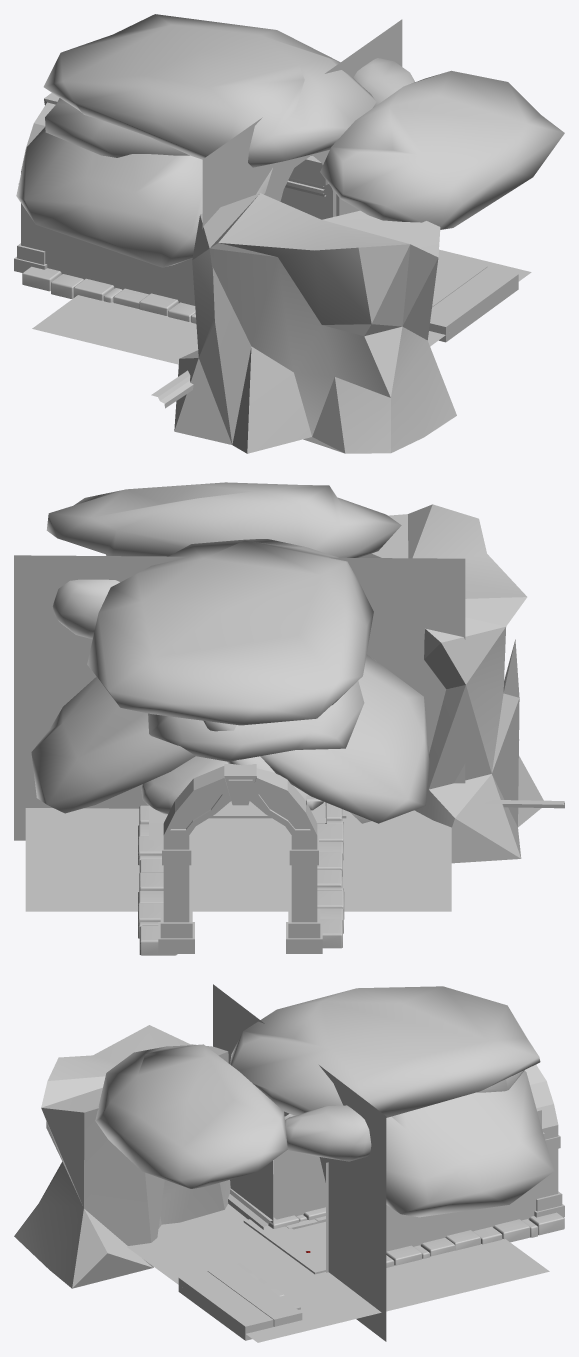
File: Interior_Room A Entrance.fbx
The picture shows the model from 3 angles, top to bottom: view 1: azimuth 30°, elevation 25°; view 2: azimuth 150°, elevation 25°; view 3: azimuth 270°, elevation 25°; orthographic projection. The views are drawn at different scales.
Parts seen in each view (by area): view 1: CaveCliffCATAM_C, CaveCliffCATAM_A_LOD2_2, CaveCliffCATAM_A, CaveCliffCATAM_A_LOD2_4, GroundTileCATAM_A, BrickTileCATAM_B__11_, BrickTileCATAM_B__7_, CaveCliffCATAM_A_LOD2_3, CatacombsDetailsStones_B_LOD1_2, BottomStoneEdgeCATAM_B, CATA_ArchA_LOD1_1, BrickTileCATAM_B__10_ (+8 smaller); view 2: CaveCliffCATAM_A_LOD2_2, GroundTileCATAM_A, CaveCliffCATAM_C, CaveCliffCATAM_A, CaveCliffCATAM_A_LOD2_4, CATA_ArchA_LOD1_1, CaveCliffCATAM_A_LOD2_5, BrickTileCATAM_B__7_, BrickTileCATAM_B__6_, CaveCliffCATAM_A_LOD2_3, BrickTileCATAM_B__4_, CaveRockCATA_A (+7 smaller); view 3: CaveCliffCATAM_A_LOD2_2, CaveCliffCATAM_C, CaveCliffCATAM_A, GroundTileCATAM_A, CaveCliffCATAM_A_LOD2_5, BrickTileCATAM_B__4_, BrickTileCATAM_B__6_, CaveRockCATA_A, BrickTileCATAM_B__10_, CatacombsDetailsStones_B_LOD1_2, CATA_ArchA_LOD1_1, BrickTileCATAM_B__9_ (+9 smaller).
Part boxes in pixels (x1=…): CaveCliffCATAM_C: x1=174, y1=193, x2=456, y2=453; CaveCliffCATAM_A_LOD2_2: x1=43, y1=14, x2=376, y2=167; CaveCliffCATAM_A: x1=320, y1=70, x2=564, y2=229; CaveCliffCATAM_A_LOD2_4: x1=16, y1=127, x2=272, y2=267; GroundTileCATAM_A: x1=32, y1=249, x2=531, y2=364; BrickTileCATAM_B__11_: x1=42, y1=227, x2=146, y2=293; BrickTileCATAM_B__7_: x1=202, y1=117, x2=272, y2=228; CaveCliffCATAM_A_LOD2_3: x1=45, y1=98, x2=189, y2=157; CatacombsDetailsStones_B_LOD1_2: x1=429, y1=266, x2=518, y2=342; BottomStoneEdgeCATAM_B: x1=22, y1=266, x2=149, y2=309; CATA_ArchA_LOD1_1: x1=14, y1=93, x2=59, y2=272; BrickTileCATAM_B__10_: x1=147, y1=258, x2=195, y2=305; CaveCliffCATAM_A_LOD2_2: x1=87, y1=539, x2=373, y2=725; GroundTileCATAM_A: x1=25, y1=808, x2=451, y2=911; CaveCliffCATAM_C: x1=359, y1=504, x2=543, y2=863; CaveCliffCATAM_A: x1=46, y1=482, x2=401, y2=557; CaveCliffCATAM_A_LOD2_4: x1=203, y1=654, x2=429, y2=823; CATA_ArchA_LOD1_1: x1=158, y1=764, x2=322, y2=953; CaveCliffCATAM_A_LOD2_5: x1=31, y1=677, x2=204, y2=813; BrickTileCATAM_B__7_: x1=329, y1=557, x2=465, y2=701; BrickTileCATAM_B__6_: x1=14, y1=555, x2=171, y2=698; CaveCliffCATAM_A_LOD2_3: x1=148, y1=681, x2=364, y2=761; BrickTileCATAM_B__4_: x1=14, y1=698, x2=148, y2=840; CaveRockCATA_A: x1=52, y1=579, x2=119, y2=639; CaveCliffCATAM_A_LOD2_2: x1=230, y1=986, x2=540, y2=1117; CaveCliffCATAM_C: x1=14, y1=1025, x2=230, y2=1288; CaveCliffCATAM_A: x1=95, y1=1044, x2=287, y2=1188; GroundTileCATAM_A: x1=127, y1=1174, x2=549, y2=1342; CaveCliffCATAM_A_LOD2_5: x1=386, y1=1070, x2=554, y2=1217; BrickTileCATAM_B__4_: x1=328, y1=1185, x2=386, y2=1341; BrickTileCATAM_B__6_: x1=326, y1=1070, x2=386, y2=1228; CaveRockCATA_A: x1=285, y1=1105, x2=371, y2=1161; BrickTileCATAM_B__10_: x1=273, y1=1150, x2=325, y2=1219; CatacombsDetailsStones_B_LOD1_2: x1=178, y1=1271, x2=273, y2=1340; CATA_ArchA_LOD1_1: x1=524, y1=1064, x2=564, y2=1217; BrickTileCATAM_B__9_: x1=434, y1=1110, x2=541, y2=1240.
Size of what is drawn, in the model's own units: 1366 by 850 by 1633.
